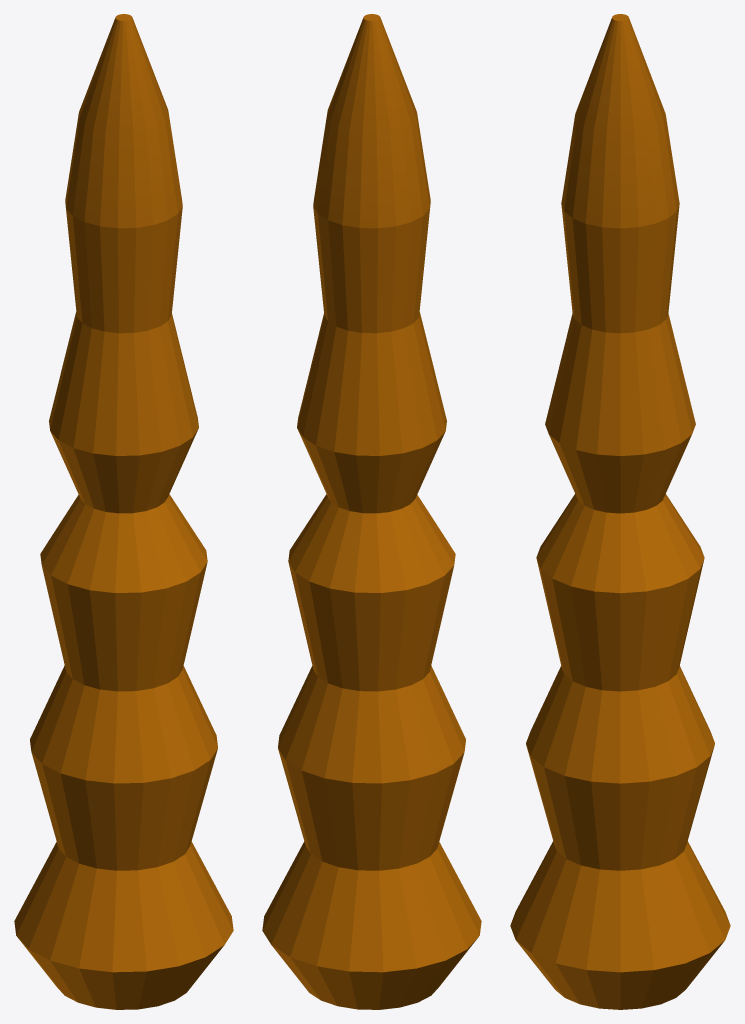
The model's file is Geonosis_tower_rock.fbx.
3 renders of one model, left to right at view 1: azimuth 30°, elevation 25°; view 2: azimuth 150°, elevation 25°; view 3: azimuth 270°, elevation 25°, orthographic.
Visible parts, largest first — view 1: Geonosis_tower_rock; view 2: Geonosis_tower_rock; view 3: Geonosis_tower_rock.
Boxes of the visible parts, x1,y1,x2,y2 form: Geonosis_tower_rock: (14, 14, 233, 1009); Geonosis_tower_rock: (262, 14, 481, 1009); Geonosis_tower_rock: (510, 14, 730, 1009).
Size of the model in its own units: 65.19 by 314 by 65.19.
